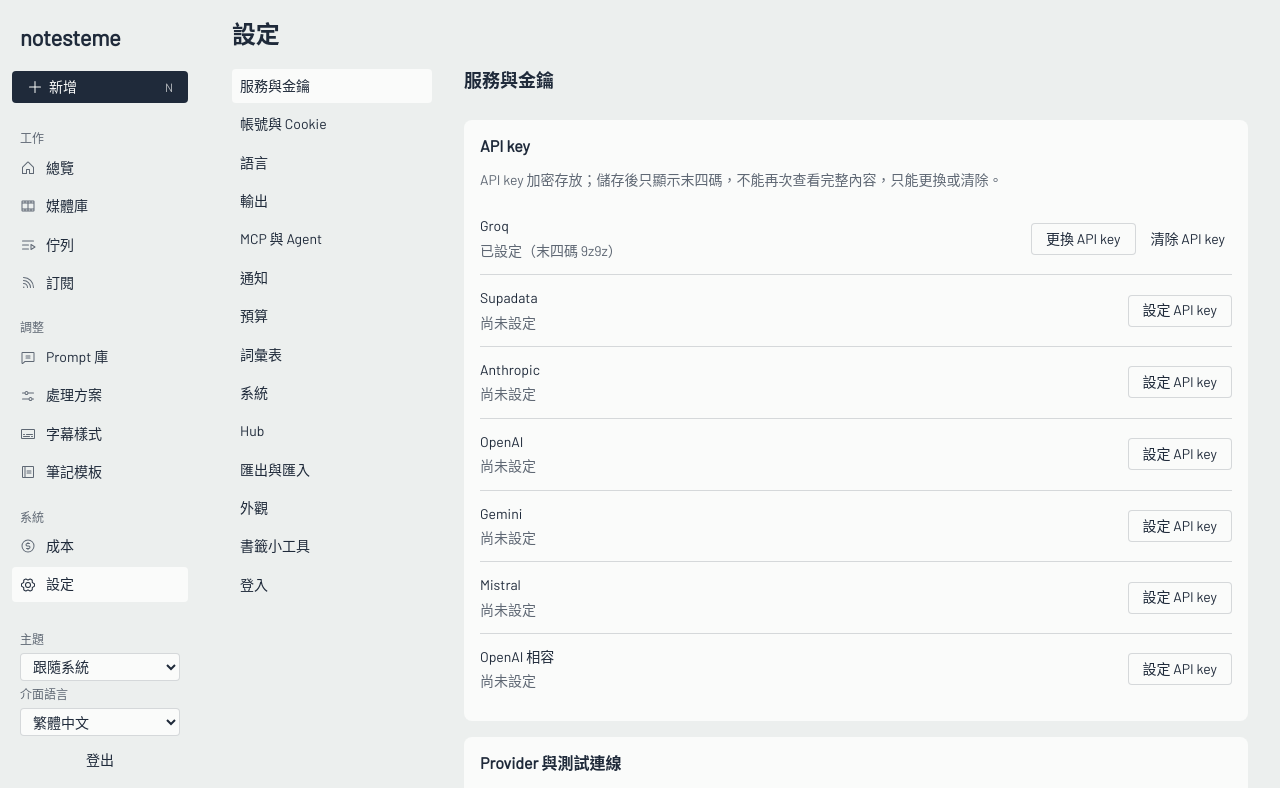
Scenario: 服務與金鑰 › 只顯示末四碼；更換時只送那一個 provider，送出後輸入框清空、key 不留在畫面上
Expected: the heading "設定" is shown, 232,19 -> 280,48
Expected: the text "已設定（末四碼 9z9z）" is shown, 480,240 -> 622,262
Click the 3rd button "設定 API key".
click(1180, 454)  # box 1128,438 -> 1232,470
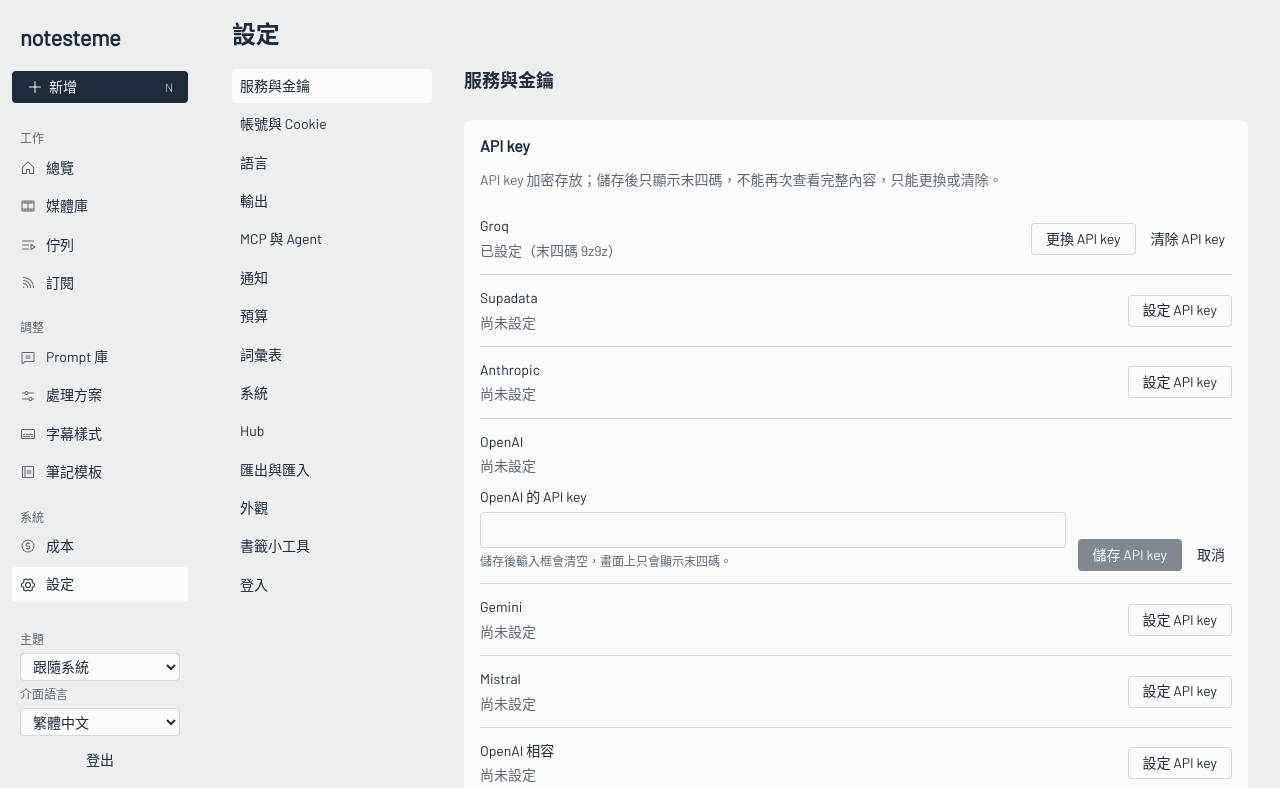
Type "sk-test-SECRET-abcd1234" into the password field labelled "OpenAI 的 API key".
click(773, 530); type("sk-test-SECRET-abcd1234")  # box 480,512 -> 1066,548
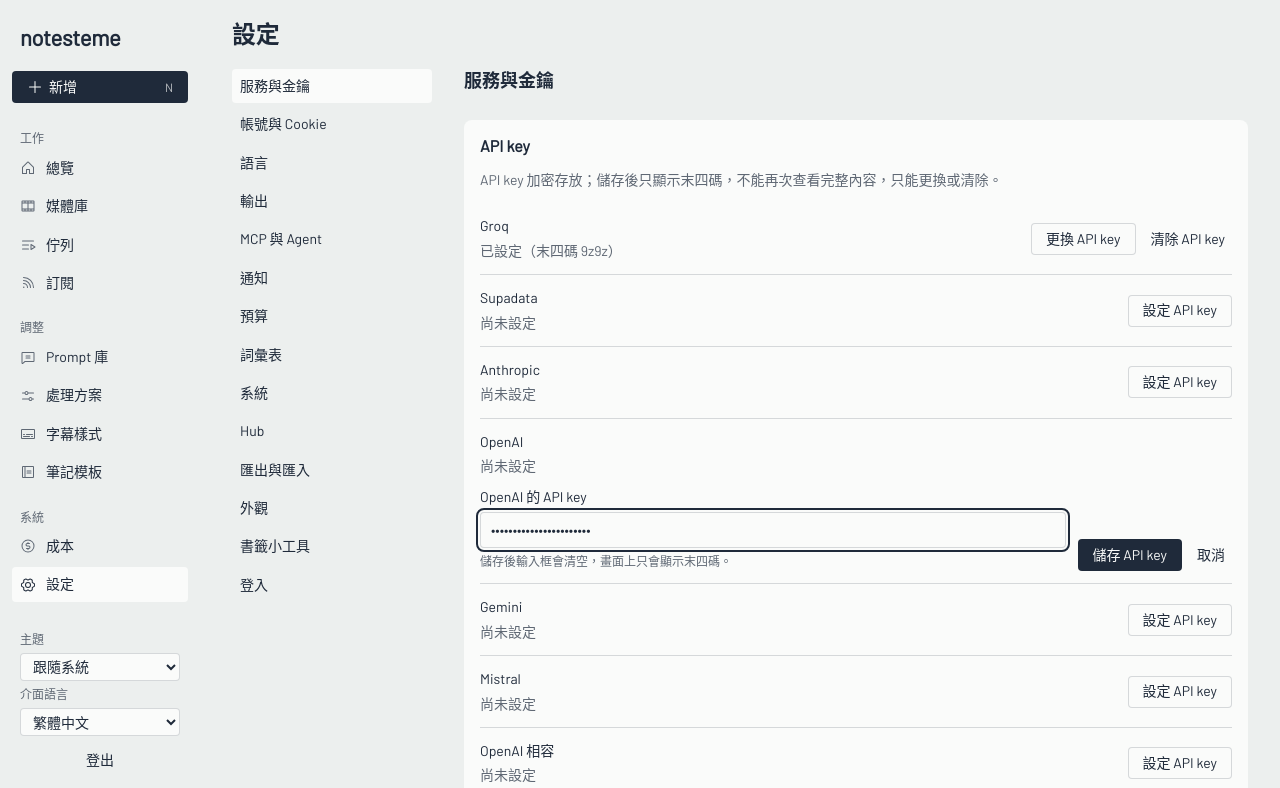
Click the button "儲存 API key".
click(1130, 556)  # box 1078,540 -> 1182,572
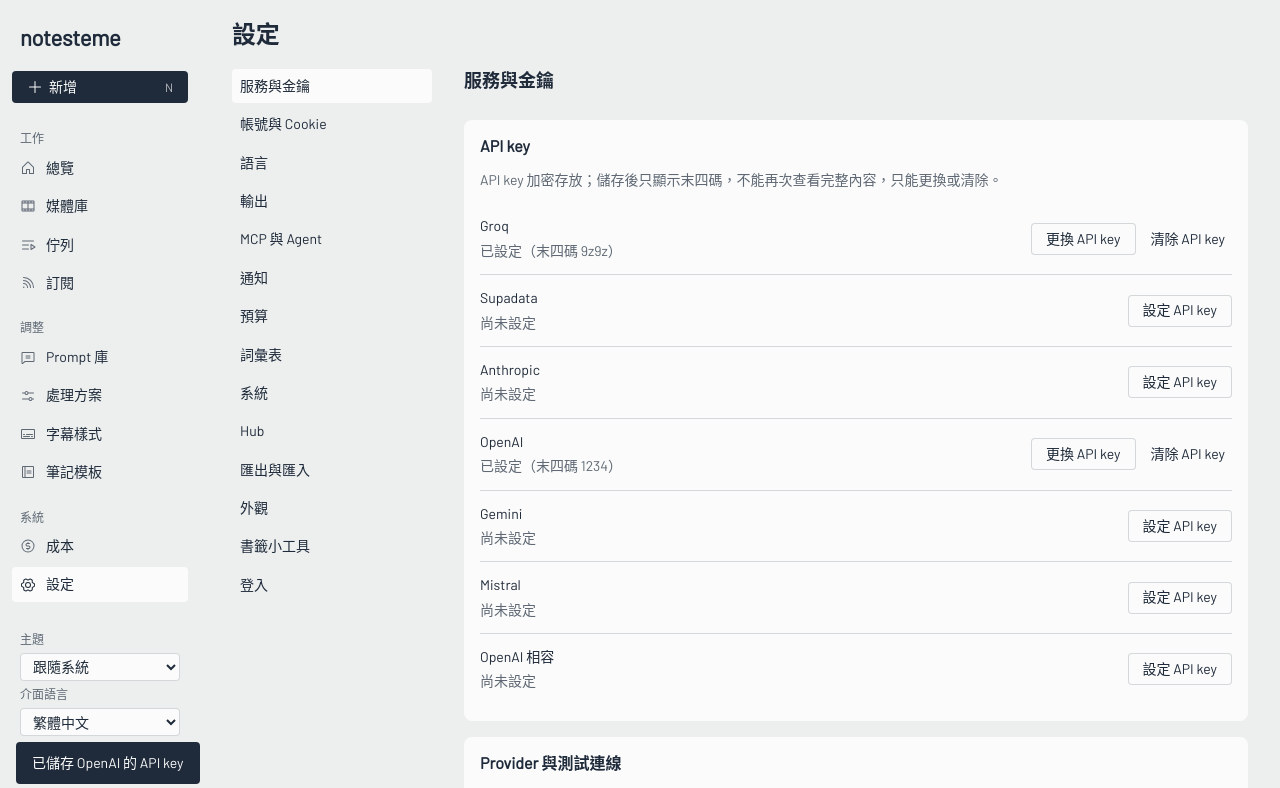
Expected: the text "已設定（末四碼 1234）" is shown, 480,455 -> 622,478
